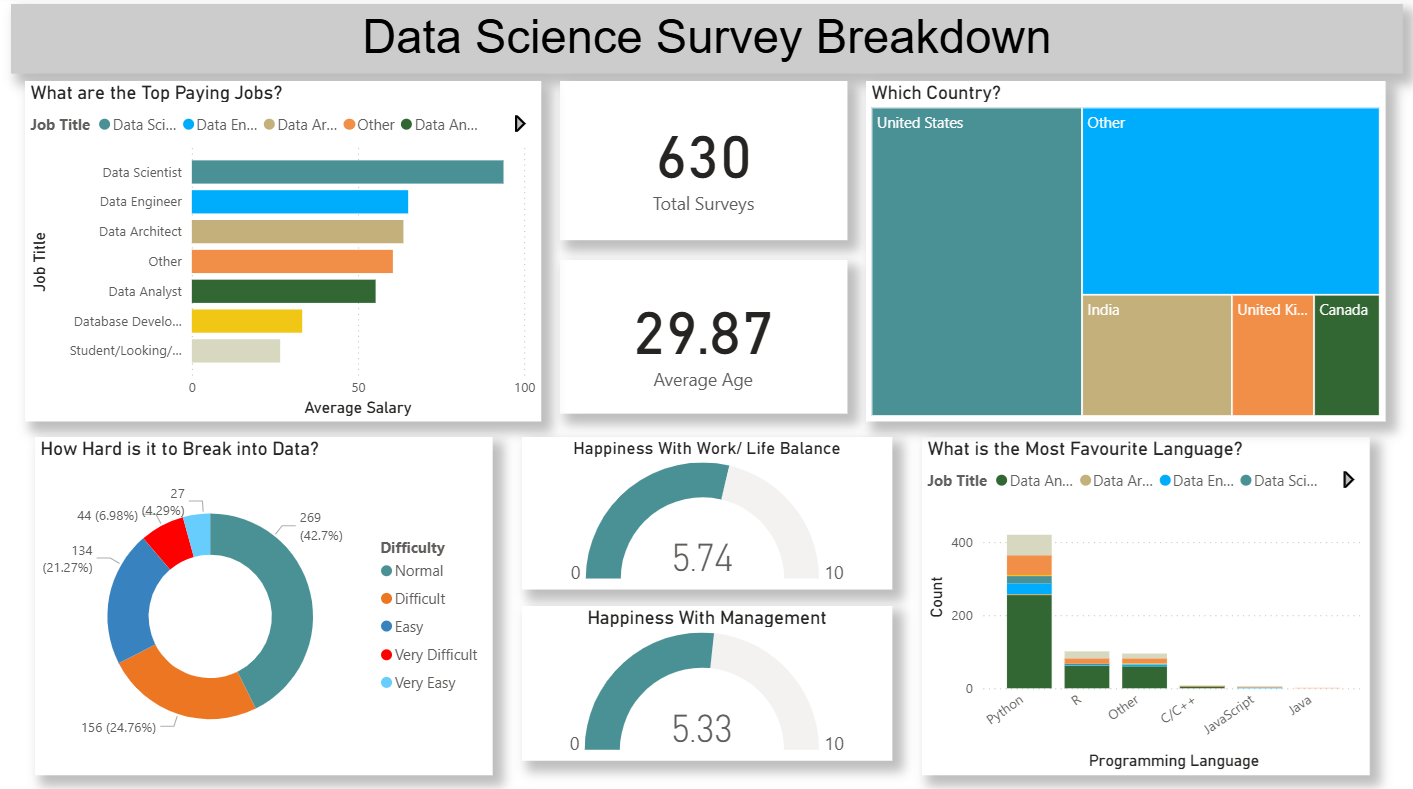

Layout of this report page (visuals, bound fields, positions):
{"tool":"powerbi","page":{"name":"Page 1","canvas":[1280,720],"ordinal":0},"visuals":[{"type":"textbox","box":[10.9,7.2,1259.2,63.3],"z":0},{"type":"card","fields":{"Values":["CountNonNull(Data Professional Survey.Unique ID)"]},"box":[507.5,76.9,259.6,143.8],"z":1000},{"type":"card","fields":{"Values":["Avg(Data Professional Survey.Q10 - Current Age)"]},"box":[507.5,238.8,259.6,139.3],"z":2000},{"type":"barChart","title":"What are the Top Paying Jobs?","fields":{"Category":["Data Professional Survey.Q1 - Which Title Best Fits your Current Role?.1"],"Y":["Avg(Data Professional Survey.Average Salary)"],"Series":["Data Professional Survey.Q1 - Which Title Best Fits your Current Role?.1"]},"box":[23.5,76.9,466.8,308.5],"z":3000},{"type":"columnChart","title":"What is the Most Favourite Language?","fields":{"Category":["Data Professional Survey.Q5 - Favorite Programming Language.1"],"Y":["CountNonNull(Data Professional Survey.Unique ID)"],"Series":["Data Professional Survey.Q1 - Which Title Best Fits your Current Role?.1"]},"box":[834.9,398.9,405.3,305.8],"z":4000},{"type":"treemap","title":"Which Country?","fields":{"Group":["Data Professional Survey.Q11 - Which Country do you live in?.1"],"Values":["CountNonNull(Data Professional Survey.Q11 - Which Country do you live in?.1)"]},"box":[784.3,76.9,470.4,308.5],"z":5000},{"type":"gauge","title":"Happiness With Work/ Life Balance","fields":{"Y":["Avg(Data Professional Survey.Q6 - How Happy are you in your Current Position with the following? (Work/Life Balance))"],"MinValue":["Min(Data Professional Survey.Q6 - How Happy are you in your Current Position with the following? (Work/Life Balance))"],"MaxValue":["Max(Data Professional Survey.Q6 - How Happy are you in your Current Position with the following? (Work/Life Balance))"]},"box":[473.1,398.9,334.7,138.4],"z":6000},{"type":"gauge","title":"Happiness With Management","fields":{"Y":["Avg(Data Professional Survey.Q6 - How Happy are you in your Current Position with the following? (Management))"],"MinValue":["Min(Data Professional Survey.Q6 - How Happy are you in your Current Position with the following? (Management))"],"MaxValue":["Max(Data Professional Survey.Q6 - How Happy are you in your Current Position with the following? (Management))"]},"box":[473.1,551.8,334.7,140.2],"z":7000},{"type":"donutChart","title":"How Hard is it to Break into Data?","fields":{"Category":["Data Professional Survey.Q7 - How difficult was it for you to break into Data?"],"Y":["CountNonNull(Data Professional Survey.Q7 - How difficult was it for you to break into Data?)"]},"box":[32.6,398.9,414.3,305.8],"z":8000}]}

Visuals, with their boxes in screenshot pixels (x1, y1, x2, y2), scaled from the page's 1280x720 canvas onto the 1413x789 screenshot:
textbox: <region>12, 8, 1402, 77</region>
card - CountNonNull(Data Professional Survey.Unique ID): <region>560, 84, 847, 242</region>
card - Avg(Data Professional Survey.Q10 - Current Age): <region>560, 262, 847, 414</region>
"What are the Top Paying Jobs?" barChart: <region>26, 84, 541, 422</region>
"What is the Most Favourite Language?" columnChart: <region>922, 437, 1369, 772</region>
"Which Country?" treemap: <region>866, 84, 1385, 422</region>
"Happiness With Work/ Life Balance" gauge: <region>522, 437, 892, 589</region>
"Happiness With Management" gauge: <region>522, 605, 892, 758</region>
"How Hard is it to Break into Data?" donutChart: <region>36, 437, 493, 772</region>
